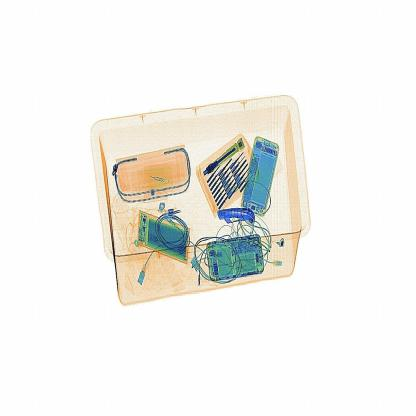knife: (218, 200, 265, 228)
